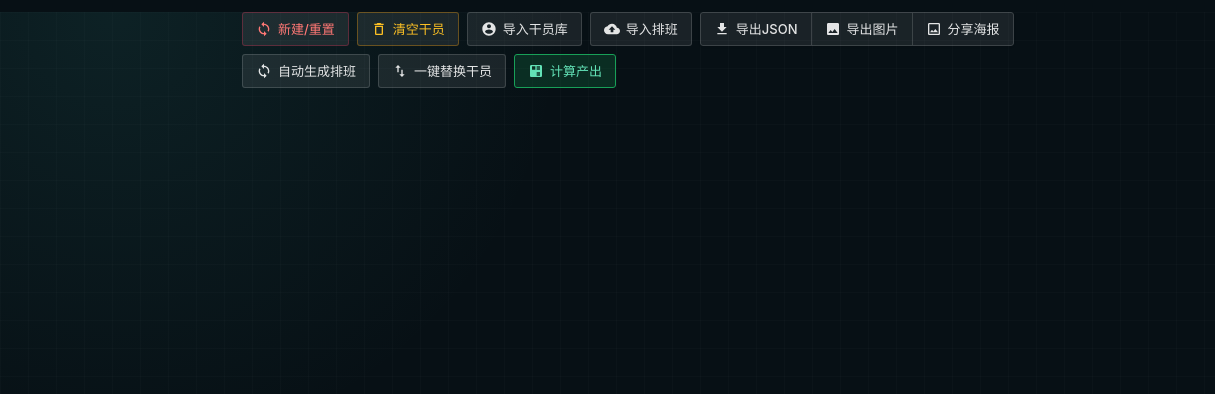
PlanToolbar.vue › Reset Confirmation › resets workspace atomically and displays success banner when confirmed
The image size is (1215, 394).
Click the button with test id "reset-btn": x=295, y=29 [242, 12, 349, 46]
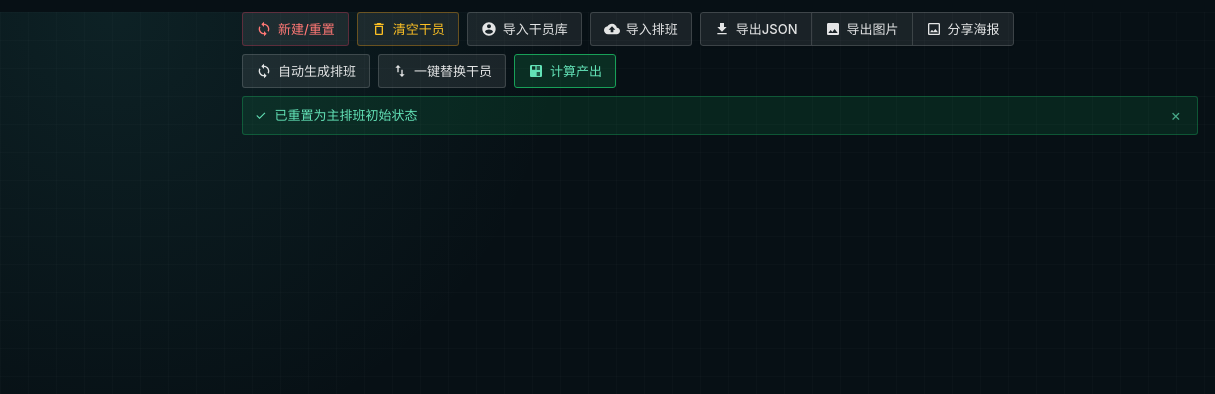
Expected: the element with test id "status-message" is shown, [242, 96, 1198, 135]
Expected: the element with test id "status-message" shows "已重置为主排班初始状态", [274, 107, 418, 123]
